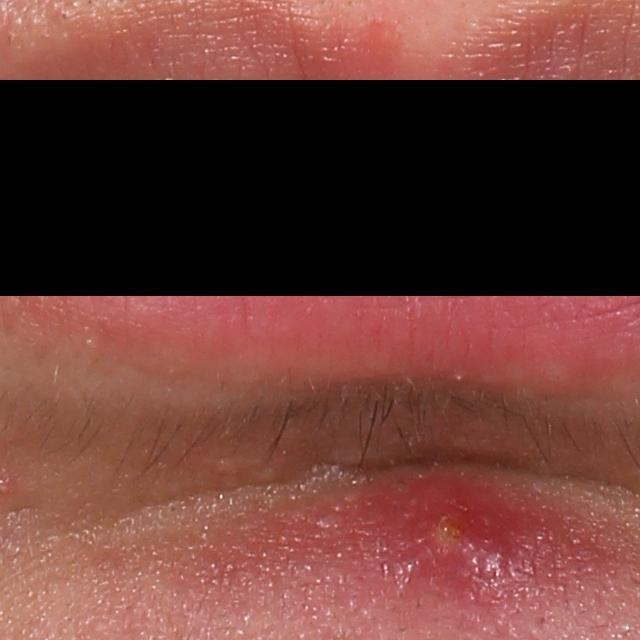nodule: (292, 472, 600, 607)
